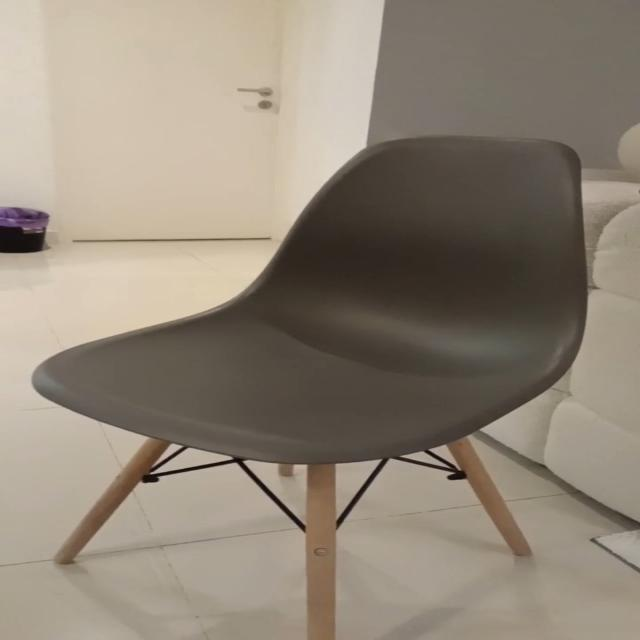sandalye: (32, 136, 587, 640)
